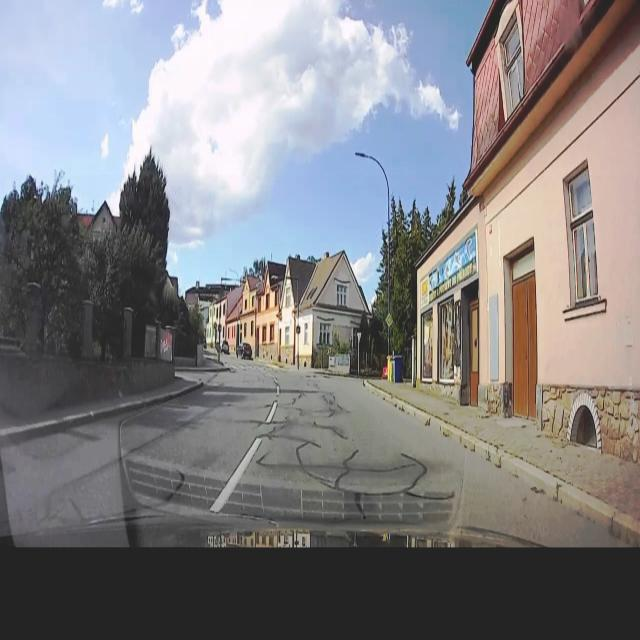Priority road: (385, 310, 394, 328)
